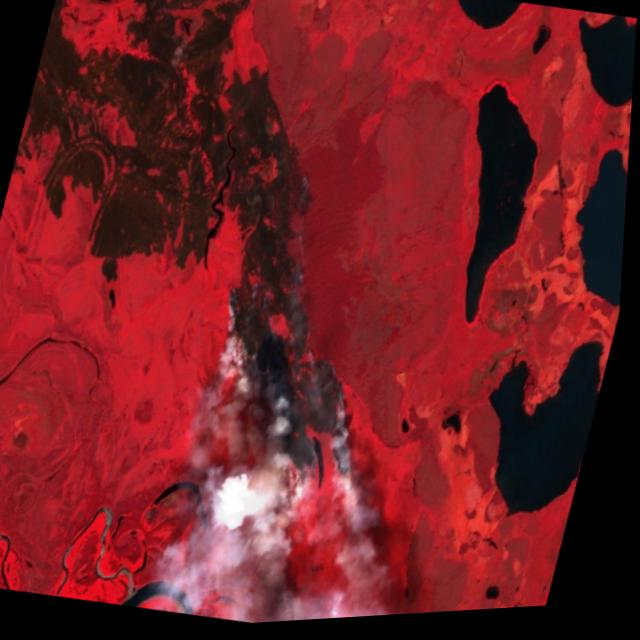fire: (176, 232, 411, 506)
